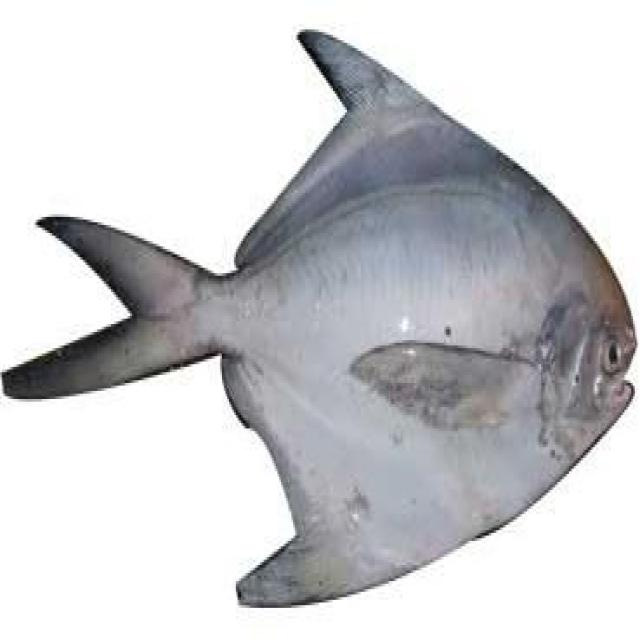pomfred: (2, 26, 638, 610)
